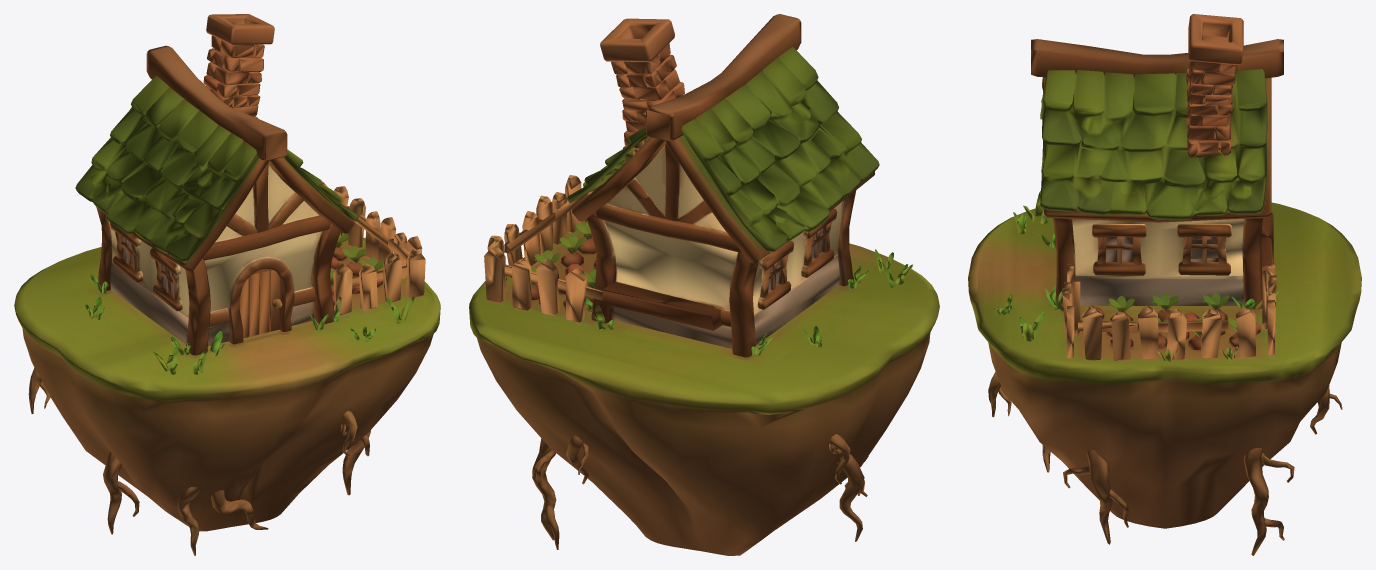
The model's file is jack_cottage.glb.
The picture shows the model from 3 angles, left to right: view 1: azimuth 30°, elevation 25°; view 2: azimuth 150°, elevation 25°; view 3: azimuth 270°, elevation 25°; orthographic projection. The views are drawn at different scales.
Parts seen in each view (by area): view 1: jack_cottage; view 2: jack_cottage; view 3: jack_cottage.
Part boxes in pixels (x1=…): jack_cottage: x1=14, y1=14, x2=440, y2=555; jack_cottage: x1=469, y1=14, x2=939, y2=555; jack_cottage: x1=968, y1=14, x2=1361, y2=555.
Bounding box in the file's own units: 5.35 × 7 × 4.98.
1 material, 1 textured.
